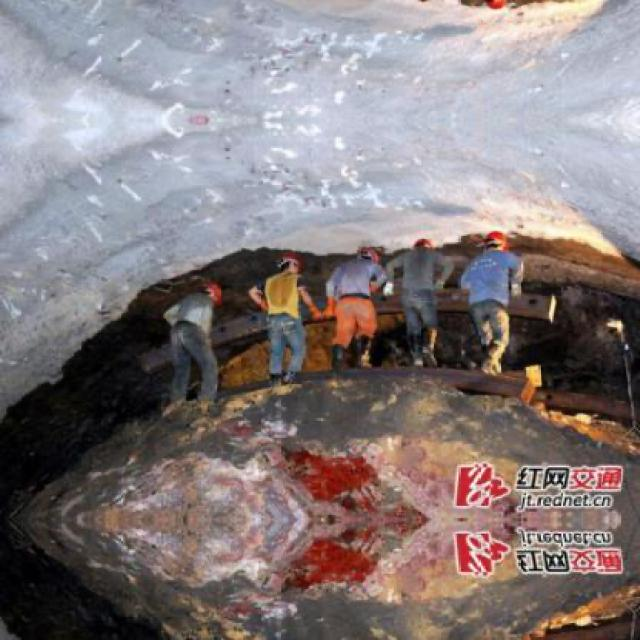helmet: (482, 228, 516, 258), (352, 245, 383, 270), (276, 251, 304, 276), (202, 282, 224, 307), (481, 0, 517, 14), (410, 234, 436, 253), (408, 0, 435, 8)
